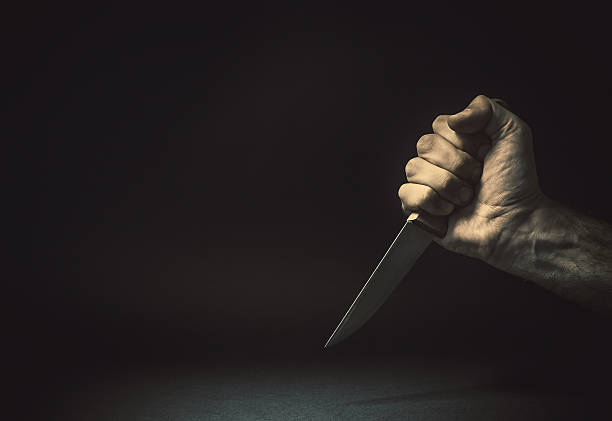knife: (321, 216, 439, 350)
